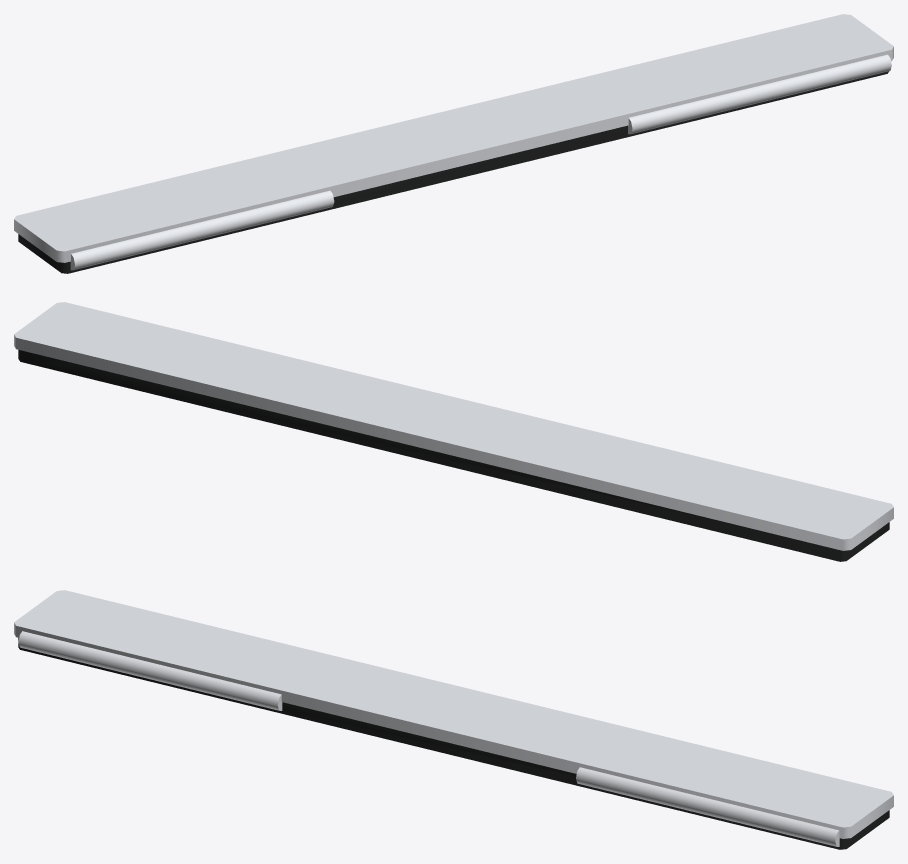
Rendered from make_up_pallete_005.glb.
3 views of the same model, one above another, from view 1: azimuth 30°, elevation 25°; view 2: azimuth 150°, elevation 25°; view 3: azimuth 330°, elevation 25° (orthographic).
Visible parts, largest first — view 1: make up_pallete_cover.004, make up_pallete.005; view 2: make up_pallete_cover.004, make up_pallete.005; view 3: make up_pallete_cover.004, make up_pallete.005.
Boxes of the visible parts, x1=… form: make up_pallete_cover.004: x1=14, y1=14, x2=893, y2=262; make up_pallete.005: x1=18, y1=54, x2=891, y2=273; make up_pallete_cover.004: x1=14, y1=302, x2=893, y2=550; make up_pallete.005: x1=18, y1=350, x2=889, y2=561; make up_pallete_cover.004: x1=14, y1=590, x2=893, y2=838; make up_pallete.005: x1=18, y1=631, x2=889, y2=849.
Size of the model in its own units: 46.43 by 1.25 by 5.06.
2 materials, 2 textured.
